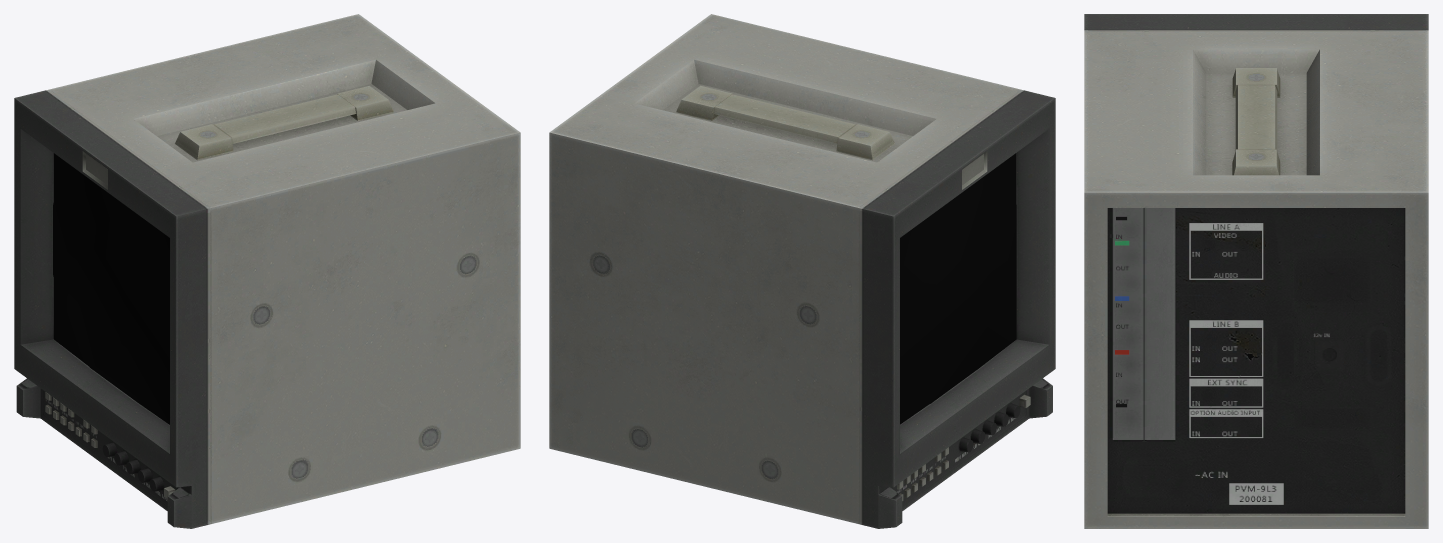
The model's file is monitor01big_monitor01.002.fbx.
The picture shows the model from 3 angles, left to right: view 1: azimuth 30°, elevation 25°; view 2: azimuth 150°, elevation 25°; view 3: azimuth 270°, elevation 25°; orthographic projection. The views are drawn at different scales.
Parts seen in each view (by area): view 1: monitor01big_monitor01.002; view 2: monitor01big_monitor01.002; view 3: monitor01big_monitor01.002.
Part boxes in pixels (x1,y1,x2,y2): monitor01big_monitor01.002: (14,14,520,528); monitor01big_monitor01.002: (549,14,1055,528); monitor01big_monitor01.002: (1084,14,1428,528).
Bounding box in the file's own units: 59.85 × 52.52 × 48.77.
